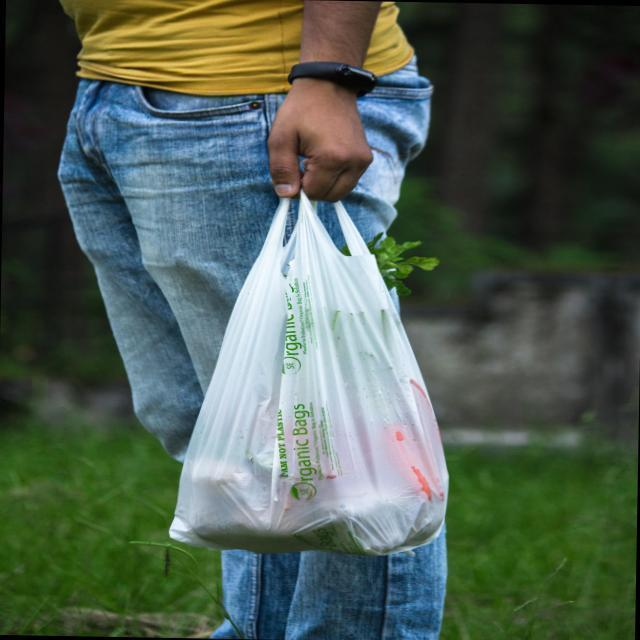Plastic_Bag: (164, 175, 469, 573)
